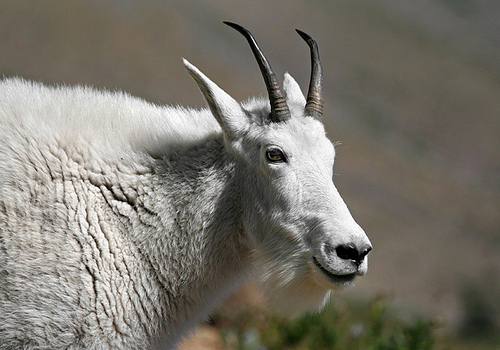goat: (1, 21, 373, 350)
